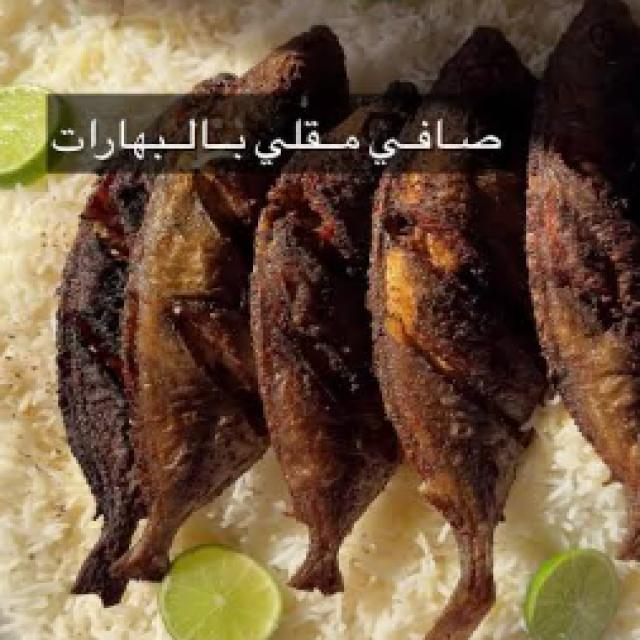Fried Fish: (43, 11, 640, 594)
